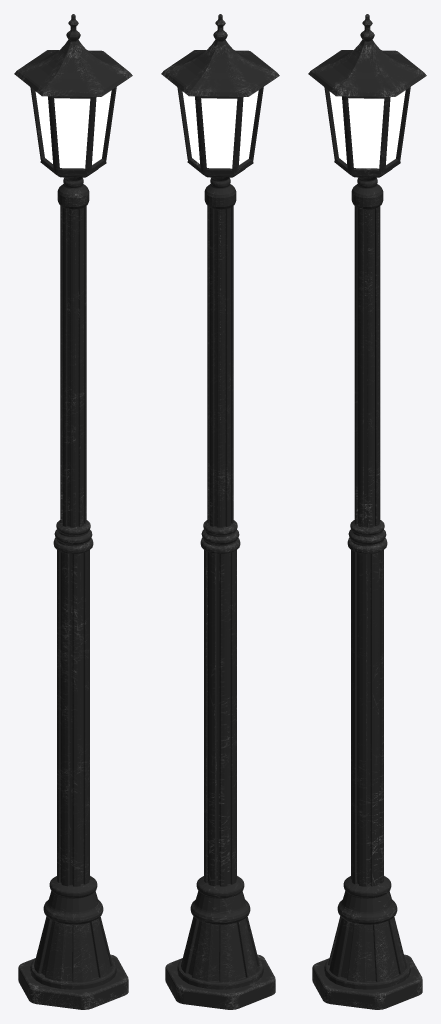
3 renders of one model, left to right at view 1: azimuth 30°, elevation 25°; view 2: azimuth 210°, elevation 25°; view 3: azimuth 270°, elevation 25°, orthographic.
Visible parts, largest first — view 1: Streetlight; view 2: Streetlight; view 3: Streetlight.
Boxes of the visible parts, box(x1,y1,x2,y2) form: Streetlight: box(14, 14, 132, 1009); Streetlight: box(161, 14, 279, 1009); Streetlight: box(308, 14, 426, 1009).
Size of what is drawn, in the model's own units: 0.1572 by 1.51 by 0.1674.
Materials: 2 (1 with a texture image).
